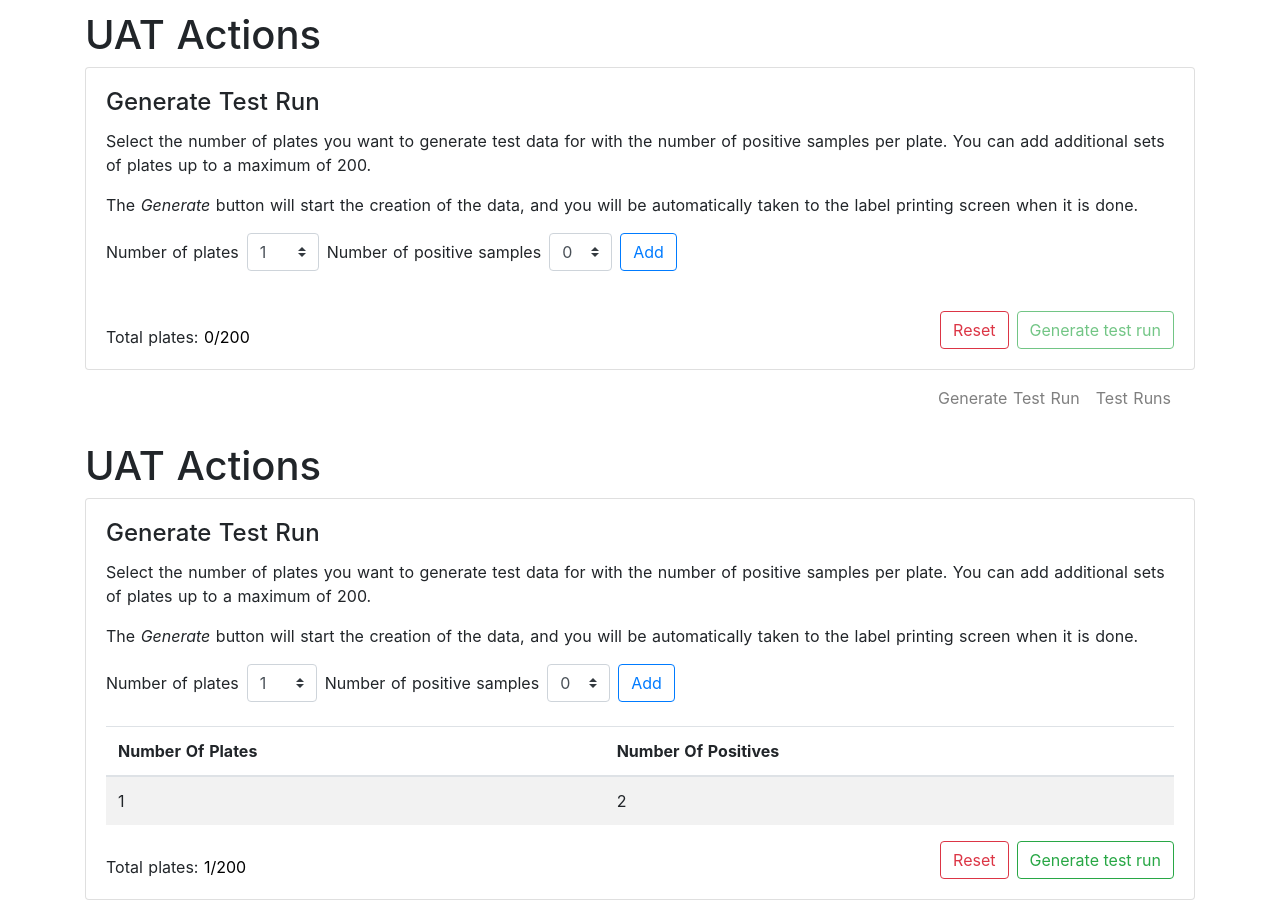
Test case: UAT Actions › #reset › resets plateSpecs
(page scrolled)
Click the button with id "resetButton": {"x": 974, "y": 860} x1=940 y1=841 x2=1008 y2=879
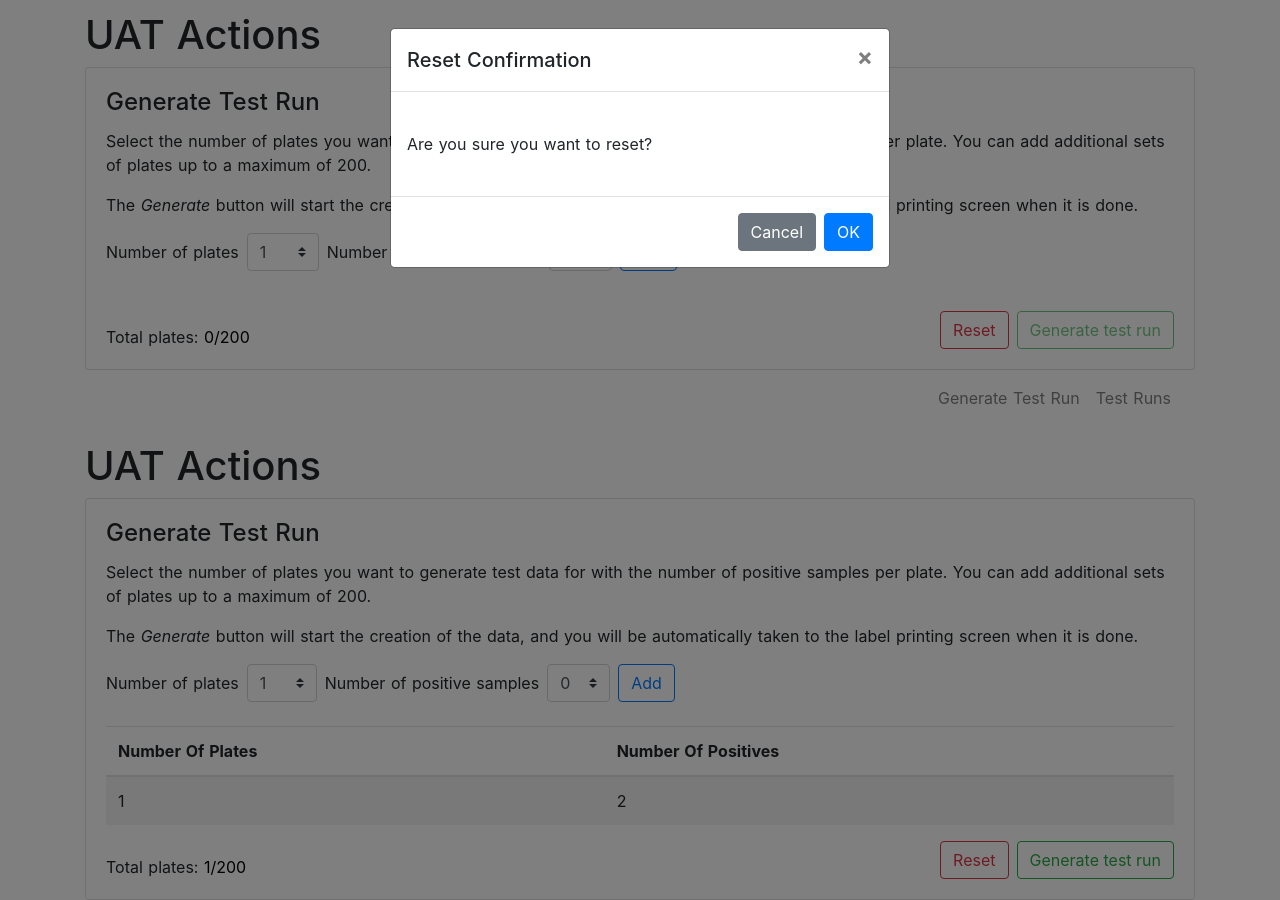
Expected: the dialog with id "resetModal" is shown, x1=390 y1=28 x2=890 y2=268
